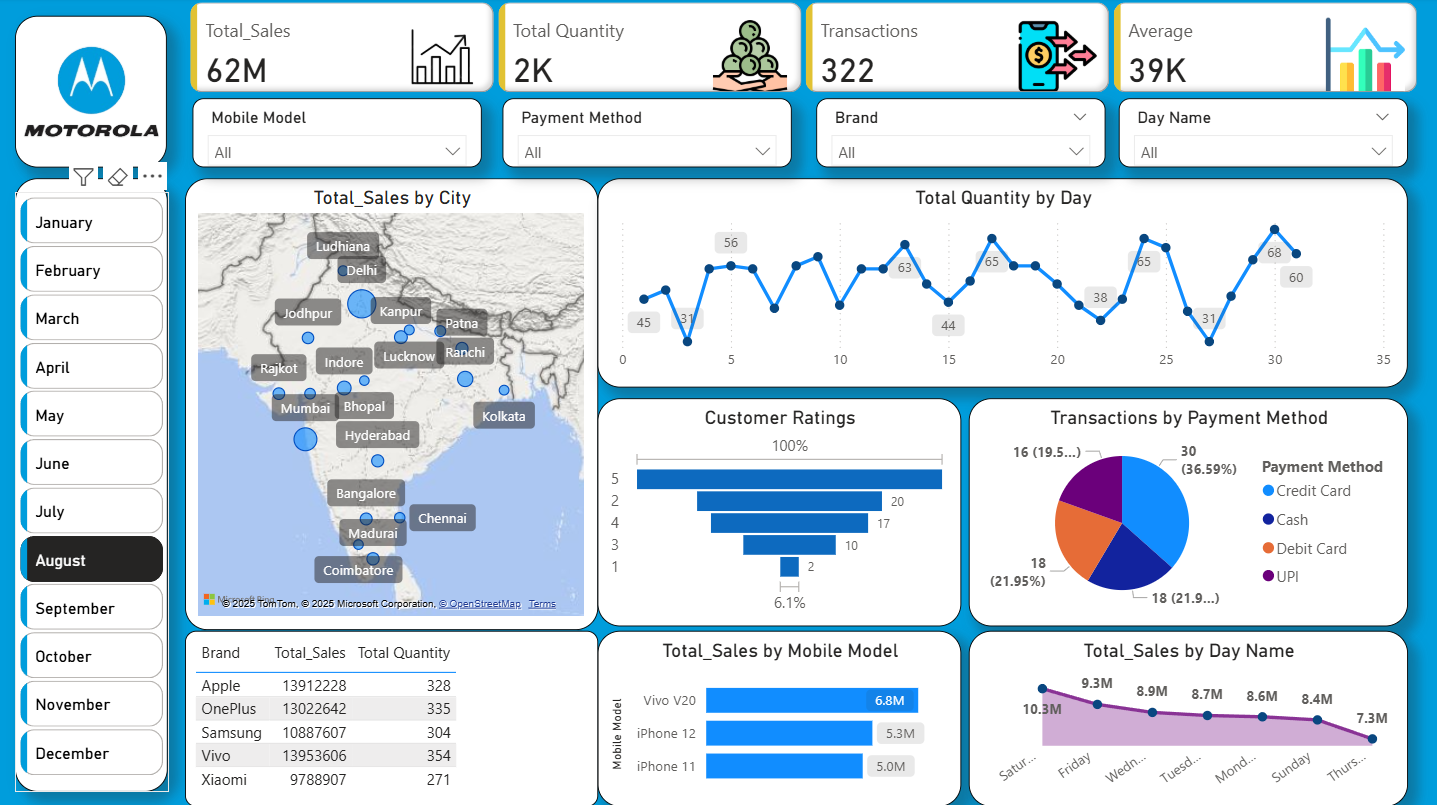

The page's visual inventory and layout, read from the dashboard file:
{"tool":"powerbi","page":{"name":"Page 1","canvas":[1280,720],"ordinal":0},"visuals":[{"type":"shape","box":[13.6,16.4,135.5,135.5],"z":0},{"type":"image","box":[13.6,18.2,133.6,133.6],"z":1000},{"type":"shape","box":[13.7,161.9,135.8,546.1],"z":2000},{"type":"advancedSlicerVisual","fields":{"Values":["Sales Data.Date.Variation.Date Hierarchy.Month"]},"box":[13.3,173.7,137.5,534.5],"z":3000},{"type":"cardVisual","fields":{"Data":["Sales Data.Total_Sales","Sales Data.Total Quantity","Sales Data.Transactions","Sales Data.Average"]},"box":[164.7,0,1103.3,90.6],"z":4000},{"type":"map","fields":{"Category":["Sales Data.City"],"Size":["Sales Data.Total_Sales"]},"box":[164.7,161.9,367.8,402.1],"z":5000},{"type":"lineChart","fields":{"Y":["Sales Data.Total Quantity"],"Category":["Sales Data.Date.Variation.Date Hierarchy.Month","Sales Data.Date.Variation.Date Hierarchy.Day"]},"box":[532.4,161.9,721.8,186.6],"z":6000},{"type":"clusteredBarChart","fields":{"Category":["Sales Data.Mobile Model"],"Y":["Sales Data.Total_Sales"]},"box":[532.4,564,323.8,156.4],"z":7000},{"type":"pieChart","fields":{"Category":["Sales Data.Payment Method"],"Y":["Sales Data.Transactions"]},"box":[863.1,356.8,391.1,203.1],"z":8000},{"type":"funnel","title":"Customer Ratings","fields":{"Category":["Sales Data.Customer Ratings"],"Y":["CountNonNull(Sales Data.Customer Ratings)"]},"box":[532.4,356.8,323.8,203.1],"z":9000},{"type":"areaChart","fields":{"Category":["Sales Data.Day Name"],"Y":["Sales Data.Total_Sales"]},"box":[863.1,564,391.1,156.4],"z":10000},{"type":"tableEx","fields":{"Values":["Sales Data.Brand","Sales Data.Total_Sales","Sales Data.Total Quantity"]},"box":[164.7,564,367.8,156.4],"z":11000},{"type":"slicer","fields":{"Values":["Sales Data.Mobile Model"]},"box":[171.5,90.6,258,61.7],"z":12000},{"type":"slicer","fields":{"Values":["Sales Data.Payment Method"]},"box":[447.3,90.6,258,61.7],"z":12001},{"type":"slicer","fields":{"Values":["Sales Data.Brand"]},"box":[727.3,90.6,258,61.7],"z":12002},{"type":"slicer","fields":{"Values":["Sales Data.Day Name"]},"box":[996.2,90.6,258,61.7],"z":12003}]}

Visuals, with their boxes in screenshot pixels (x1, y1, x2, y2), scaled from the page's 1280x720 canvas onto the 1437x805 screenshot:
shape: <region>15, 18, 167, 170</region>
image: <region>15, 20, 165, 170</region>
shape: <region>15, 181, 168, 792</region>
advancedSlicerVisual - Sales Data.Date.Variation.Date Hierarchy.Month: <region>15, 194, 169, 792</region>
cardVisual - Sales Data.Total_Sales x Sales Data.Total Quantity: <region>185, 0, 1424, 101</region>
map - Sales Data.City x Sales Data.Total_Sales: <region>185, 181, 598, 631</region>
lineChart - Sales Data.Total Quantity x Sales Data.Date.Variation.Date Hierarchy.Month: <region>598, 181, 1408, 390</region>
clusteredBarChart - Sales Data.Mobile Model x Sales Data.Total_Sales: <region>598, 631, 961, 804</region>
pieChart - Sales Data.Payment Method x Sales Data.Transactions: <region>969, 399, 1408, 626</region>
"Customer Ratings" funnel: <region>598, 399, 961, 626</region>
areaChart - Sales Data.Day Name x Sales Data.Total_Sales: <region>969, 631, 1408, 804</region>
tableEx - Sales Data.Brand x Sales Data.Total_Sales: <region>185, 631, 598, 804</region>
slicer - Sales Data.Mobile Model: <region>193, 101, 482, 170</region>
slicer - Sales Data.Payment Method: <region>502, 101, 792, 170</region>
slicer - Sales Data.Brand: <region>817, 101, 1106, 170</region>
slicer - Sales Data.Day Name: <region>1118, 101, 1408, 170</region>
